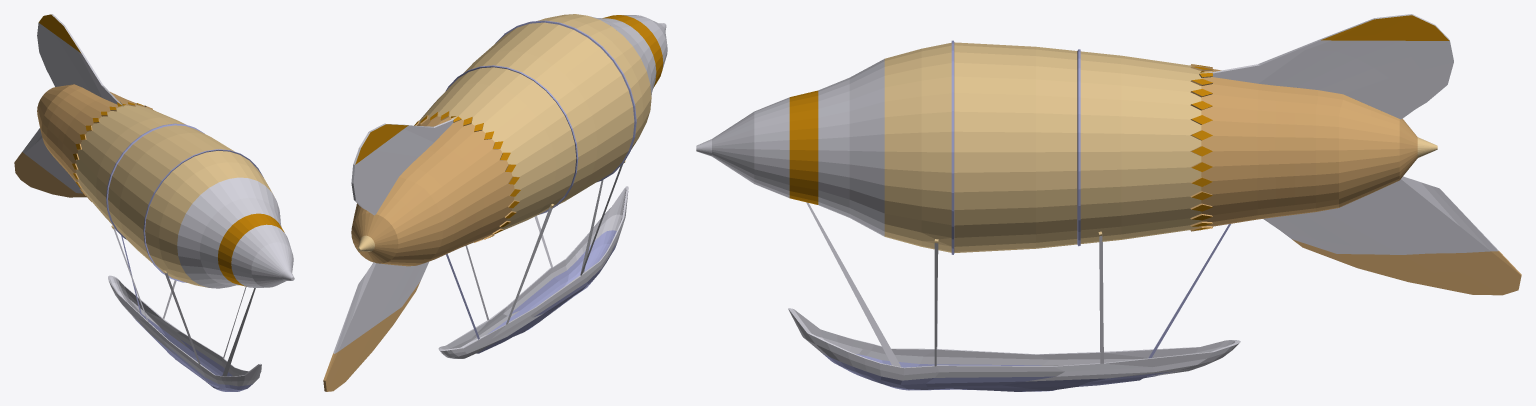
The model's file is airship2.glb.
3 renders of one model, left to right at view 1: azimuth 30°, elevation 25°; view 2: azimuth 150°, elevation 25°; view 3: azimuth 270°, elevation 25°, orthographic. The views are drawn at different scales.
Parts seen in each view (by area): view 1: Cylinder; view 2: Cylinder; view 3: Cylinder.
Part boxes in pixels (<box>): Cylinder: <box>14,14,294,391</box>; Cylinder: <box>323,14,667,391</box>; Cylinder: <box>696,14,1521,391</box>.
Size of the model in its own units: 2.93 by 5.67 by 11.27.
